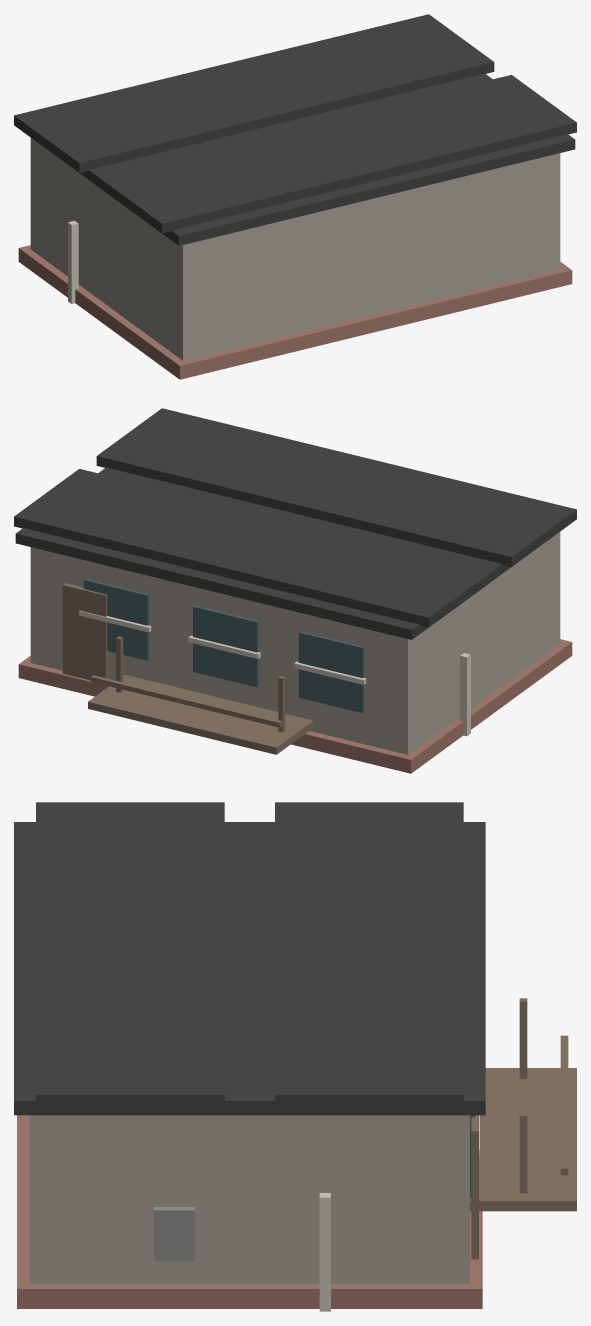
File: house_02.glb
3 renders of one model, top to bottom at view 1: azimuth 30°, elevation 25°; view 2: azimuth 150°, elevation 25°; view 3: azimuth 270°, elevation 25°, orthographic. The views are drawn at different scales.
Size of the model in its own units: 11 by 3.9 by 8.95.
